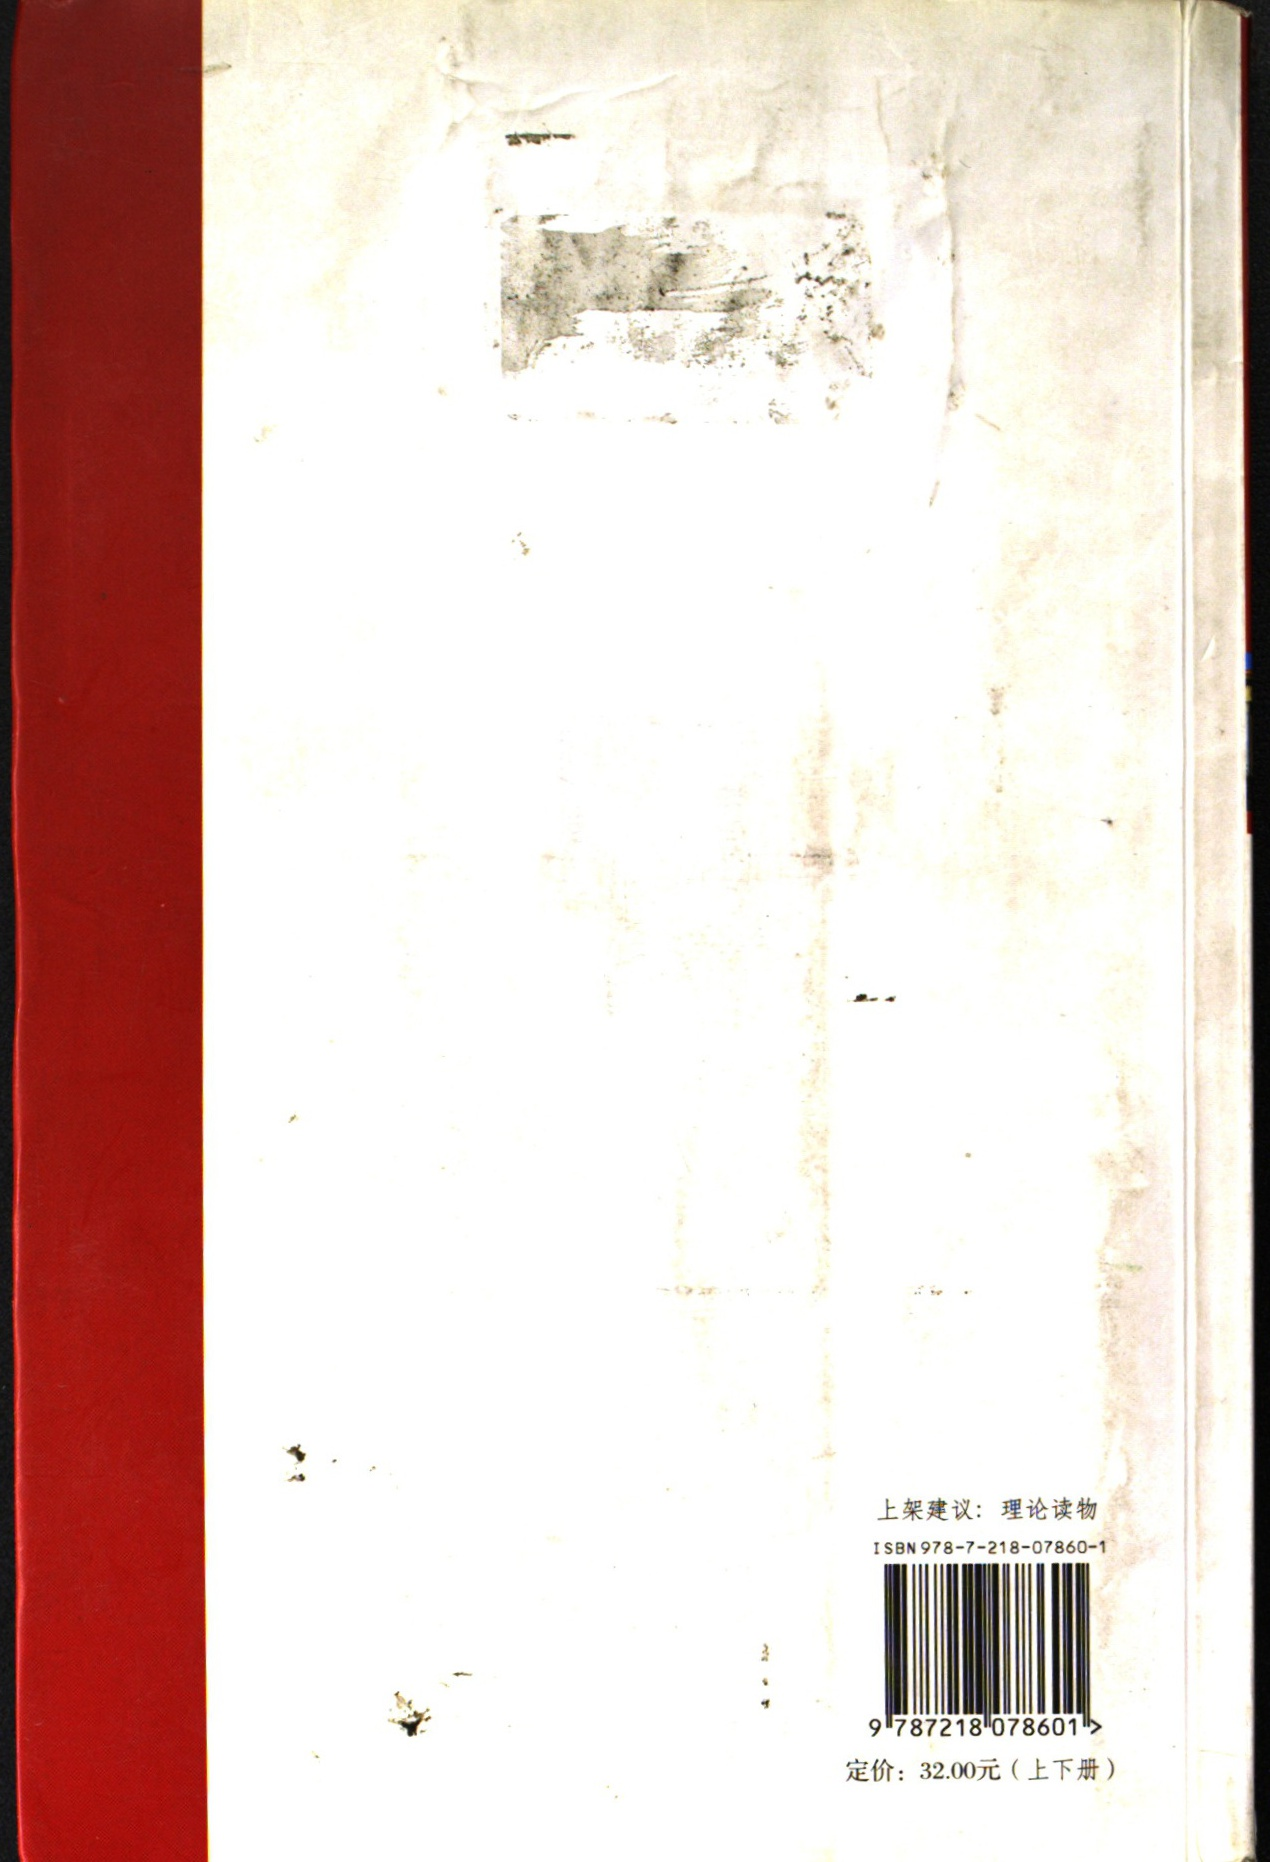barcode: (816, 1496, 1165, 1803)
